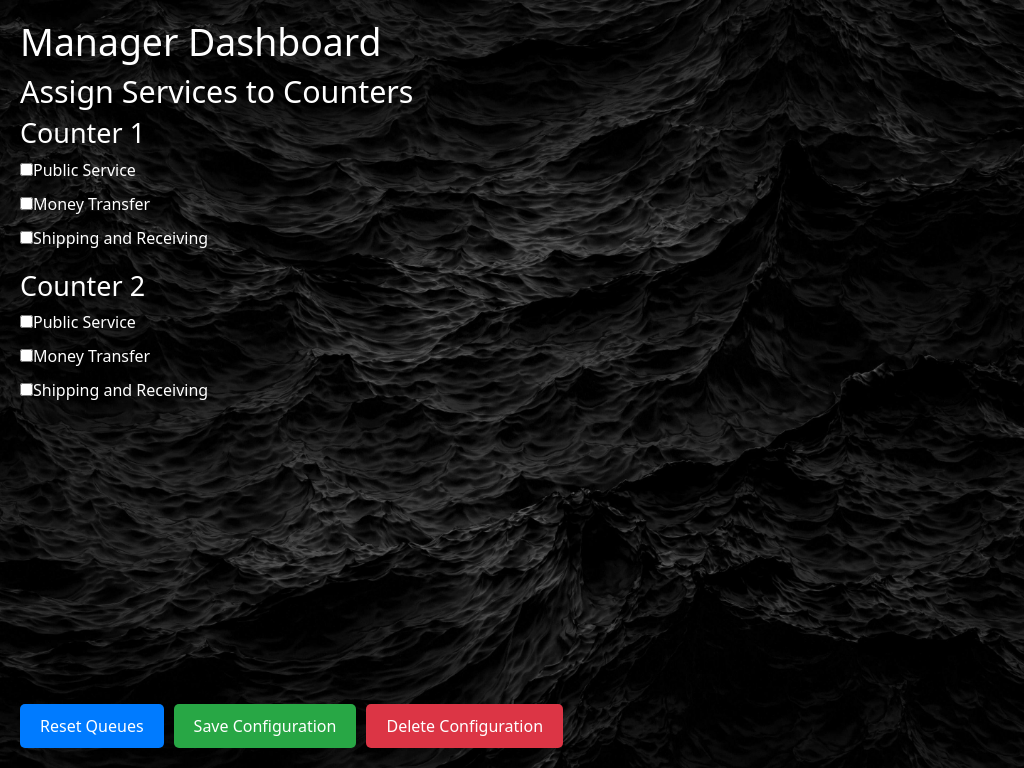
Test: ManagerHalf Component › button click shows messages
# Simulate clicking the Reset Queues button
What coordinates should you click on to do the following:
click the button "Reset Queues"
I would click on:
 (92, 726)
Its box is x1=20 y1=704 x2=164 y2=748.
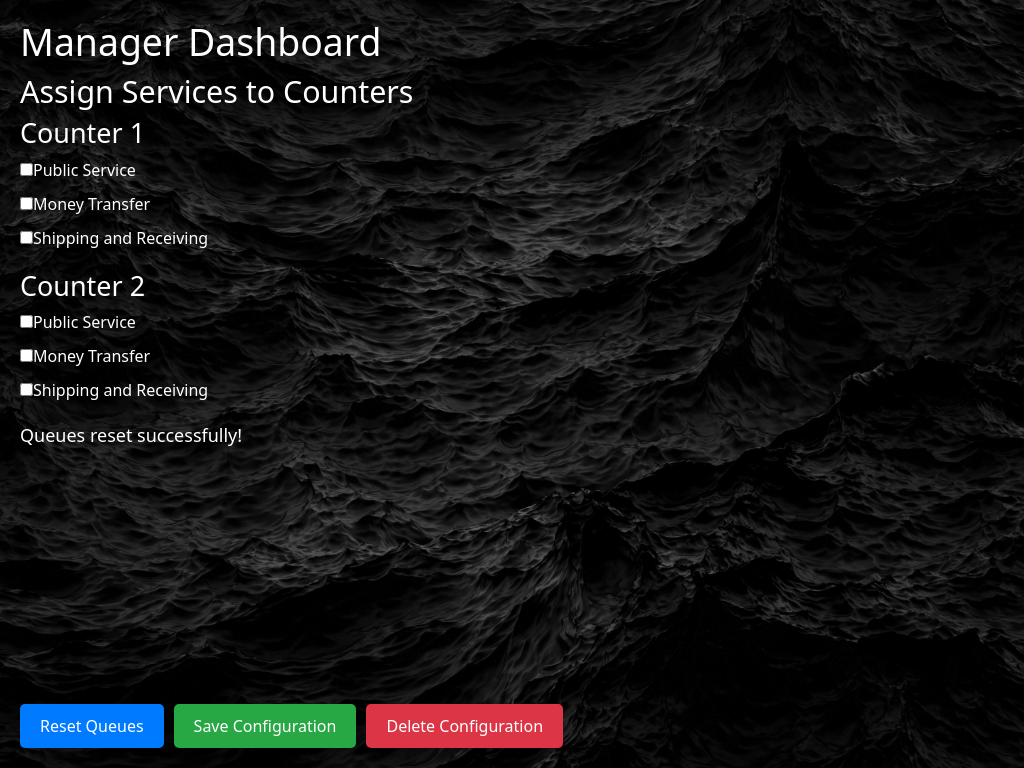
Check: the text "Queues reset successfully!" is shown, box x1=20 y1=423 x2=242 y2=447
# Simulate clicking the Save Configuration button
What coordinates should you click on to do the following:
click the button "Save Configuration"
I would click on:
 (265, 726)
Its box is x1=174 y1=704 x2=356 y2=748.
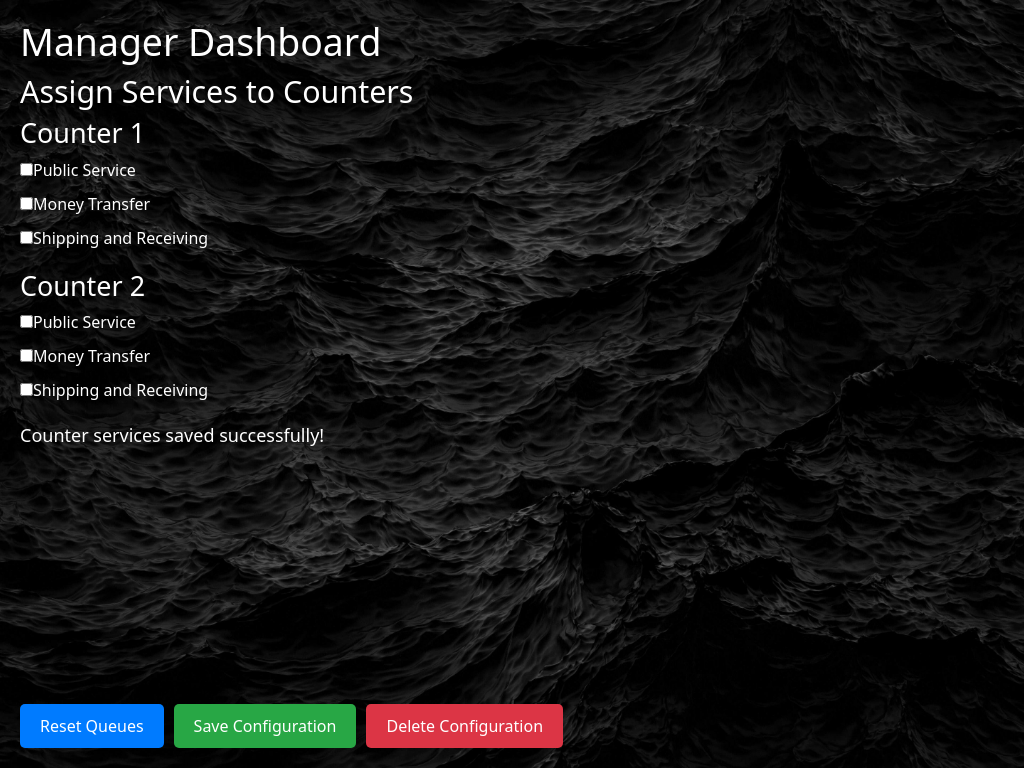
Check: the text "Counter services saved successfully!" is shown, box x1=20 y1=423 x2=324 y2=447
# Simulate clicking the Delete Configuration button
What coordinates should you click on to do the following:
click the button "Delete Configuration"
I would click on:
 (465, 726)
Its box is x1=366 y1=704 x2=563 y2=748.
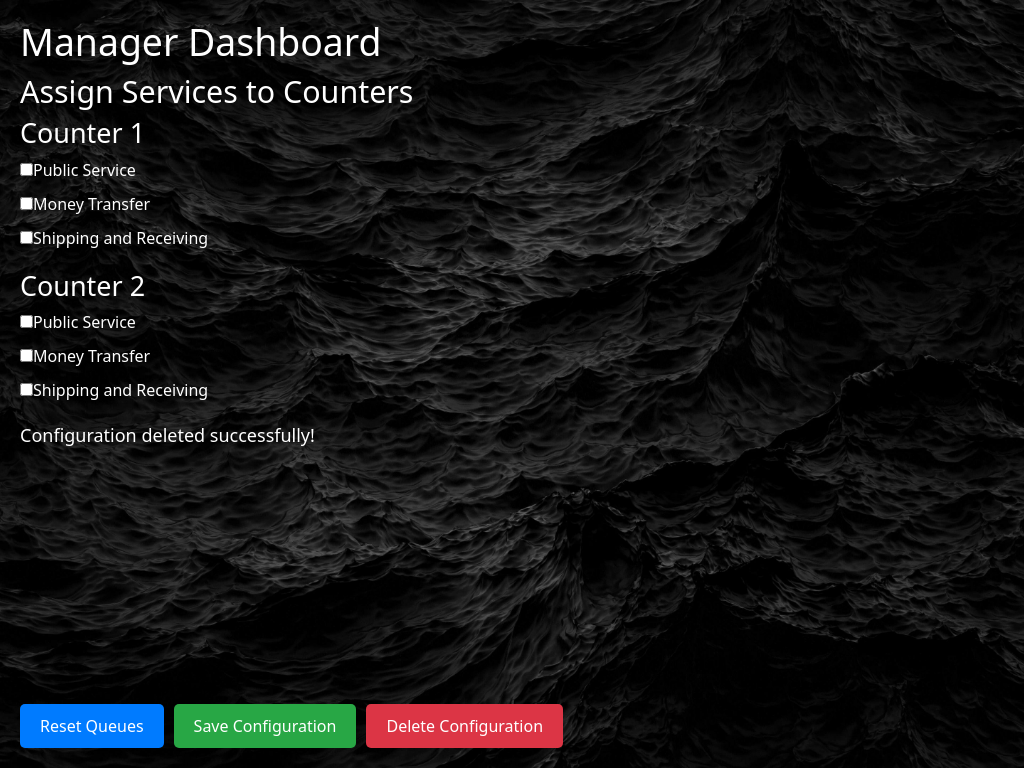
Check: the text "Configuration deleted successfully!" is shown, box x1=20 y1=423 x2=315 y2=447
